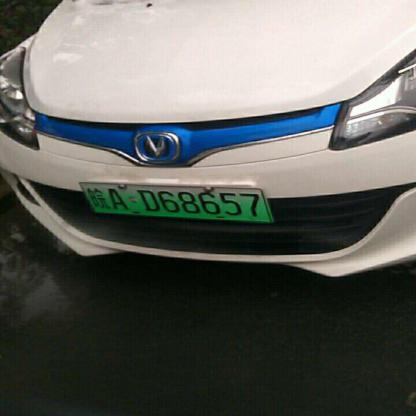lp: (81, 182, 272, 220)
